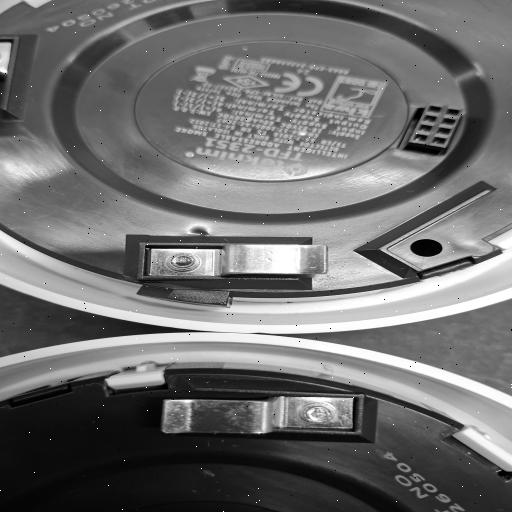konnektor: (387, 96, 480, 155)
yaysiz: (126, 381, 394, 447), (115, 228, 362, 288)
